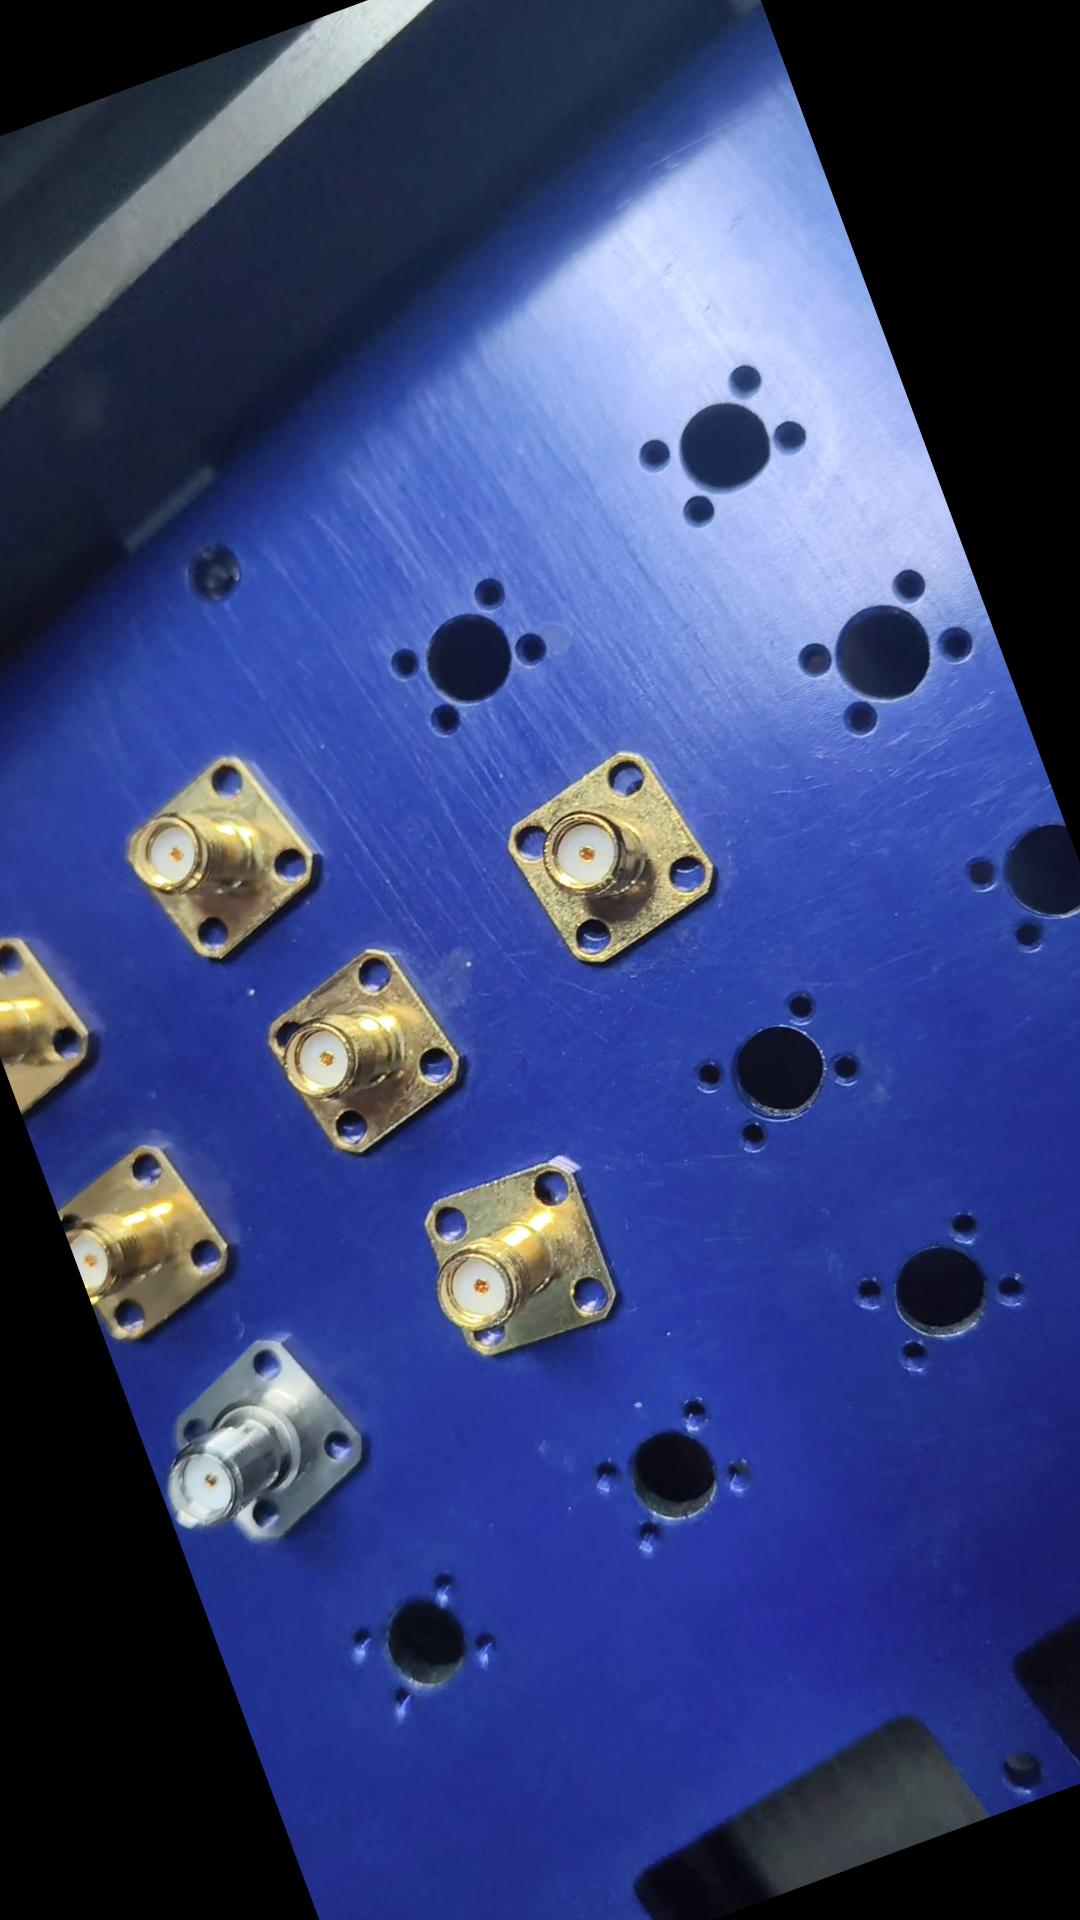SMA: (129, 1309, 394, 1573), (112, 729, 353, 990), (492, 731, 735, 981), (249, 919, 484, 1174), (409, 1141, 642, 1373), (45, 1122, 257, 1349)
